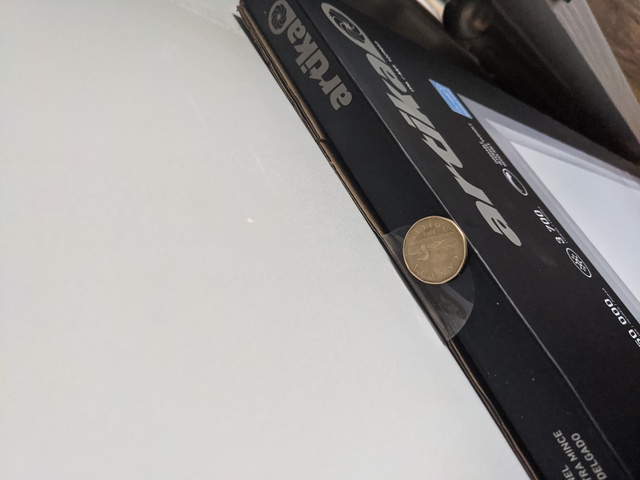loonie: (395, 204, 470, 285)
